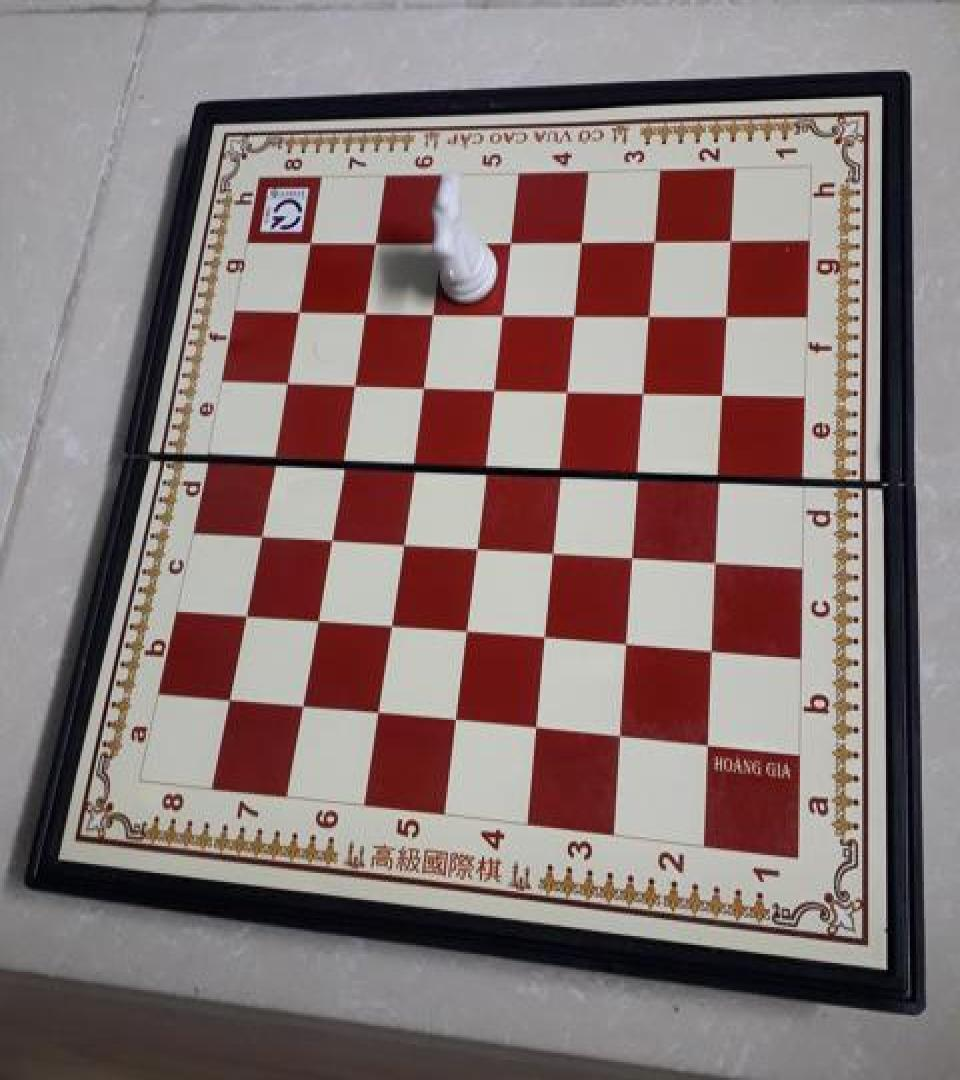xcorner: (367, 696, 395, 728), (445, 703, 473, 735), (526, 711, 554, 743), (233, 598, 261, 630), (305, 603, 333, 635), (455, 614, 483, 646), (615, 625, 643, 657), (699, 631, 727, 663), (248, 516, 276, 548), (390, 524, 418, 556), (542, 532, 570, 564), (703, 541, 731, 573), (330, 441, 358, 473), (401, 444, 429, 476), (549, 450, 577, 482), (627, 452, 655, 484), (274, 364, 302, 396), (483, 369, 511, 401), (556, 371, 584, 403), (632, 372, 660, 404), (713, 297, 741, 329), (299, 225, 327, 257), (364, 225, 392, 257), (218, 683, 246, 714), (292, 690, 320, 721), (609, 718, 637, 749), (695, 726, 723, 757), (379, 609, 407, 640), (534, 620, 562, 651), (318, 520, 346, 551), (465, 529, 493, 560), (621, 537, 649, 568), (261, 439, 289, 470), (474, 447, 502, 478), (707, 456, 735, 487), (342, 366, 370, 397), (411, 368, 439, 399), (710, 375, 738, 406), (287, 294, 315, 325), (353, 294, 381, 325), (421, 295, 449, 326), (491, 295, 519, 326), (563, 296, 591, 327), (637, 296, 665, 327), (431, 224, 459, 255), (499, 224, 527, 255), (570, 224, 598, 255), (642, 223, 670, 254), (717, 223, 745, 254)
